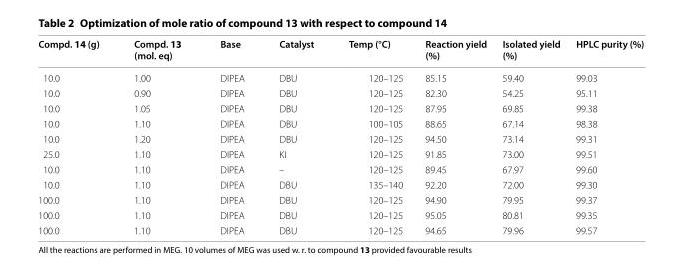table: (37, 36, 643, 235)
table column: (115, 36, 199, 235), (330, 36, 413, 235), (413, 36, 493, 235), (37, 36, 115, 235), (567, 36, 643, 235), (493, 36, 567, 235), (261, 36, 330, 235), (199, 36, 261, 235)
table column header: (37, 36, 643, 66)
table row: (37, 36, 643, 66), (37, 66, 643, 85), (37, 130, 643, 146), (37, 191, 643, 207), (37, 85, 643, 100), (37, 100, 643, 115), (37, 115, 643, 130), (37, 146, 643, 161), (37, 161, 643, 176), (37, 176, 643, 191), (37, 207, 643, 222), (37, 222, 643, 235)
